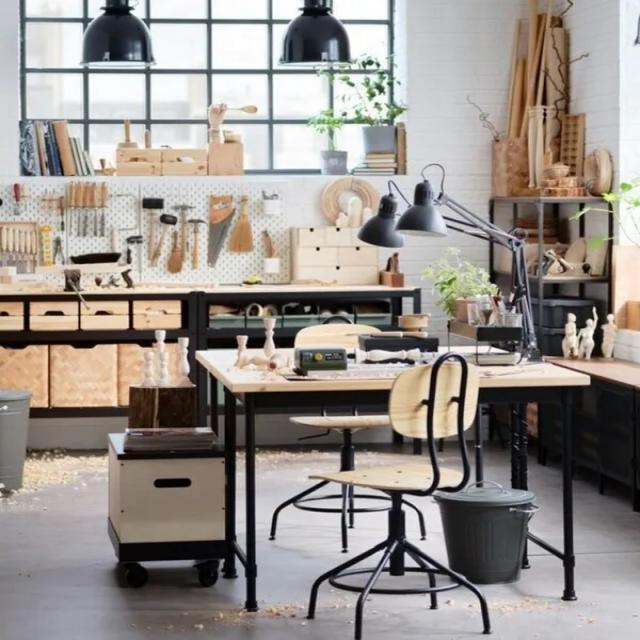table: (180, 335, 614, 429)
